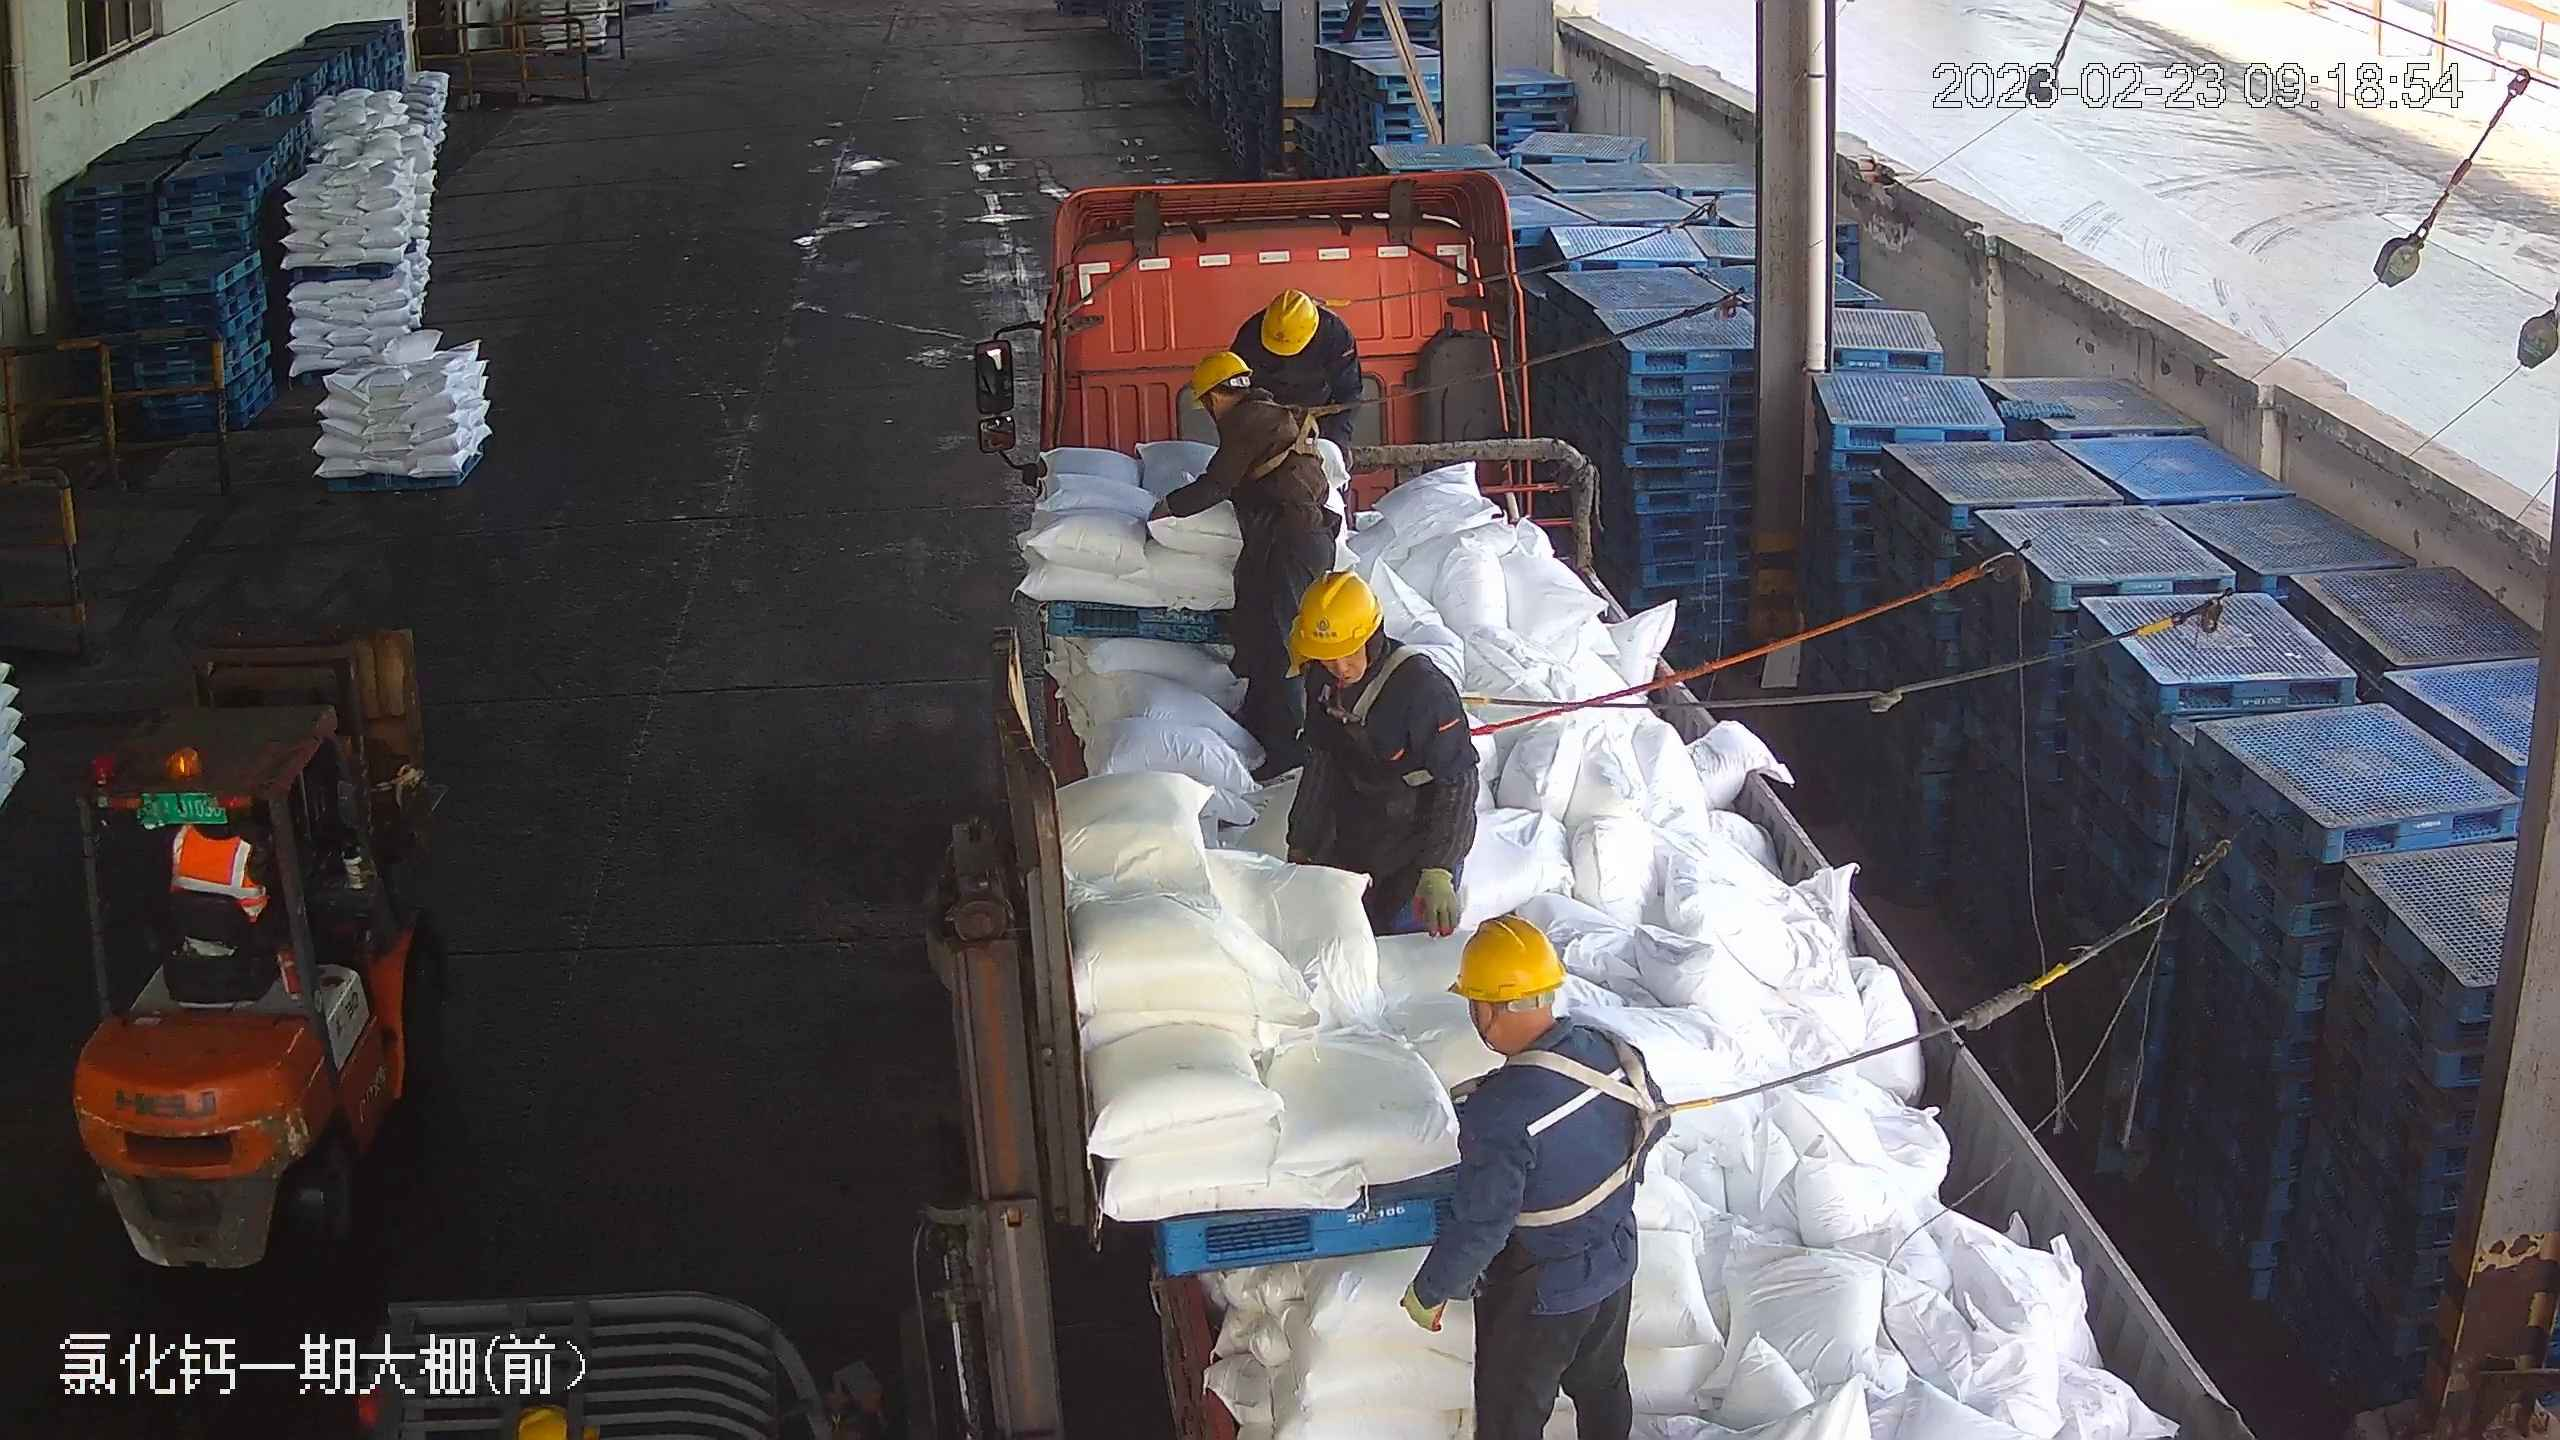belt: (1477, 1032, 1718, 1228), (1316, 641, 1480, 749), (1234, 395, 1344, 484), (1310, 287, 1374, 315)
head: (1451, 910, 1645, 1165), (1284, 570, 1463, 740), (1186, 350, 1308, 464), (1245, 287, 1345, 370)
helmet: (1450, 912, 1566, 1001), (1291, 570, 1379, 657), (1258, 290, 1322, 357), (1187, 349, 1250, 408)
people: (1401, 912, 1654, 1438), (1277, 566, 1482, 946), (1154, 351, 1340, 766), (1223, 293, 1363, 465)
truck: (998, 162, 2252, 1440)
